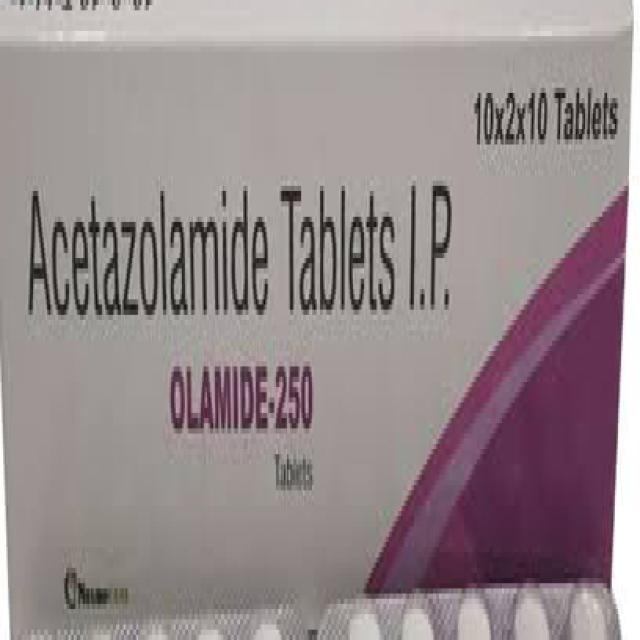drug-name: (166, 362, 316, 434)
